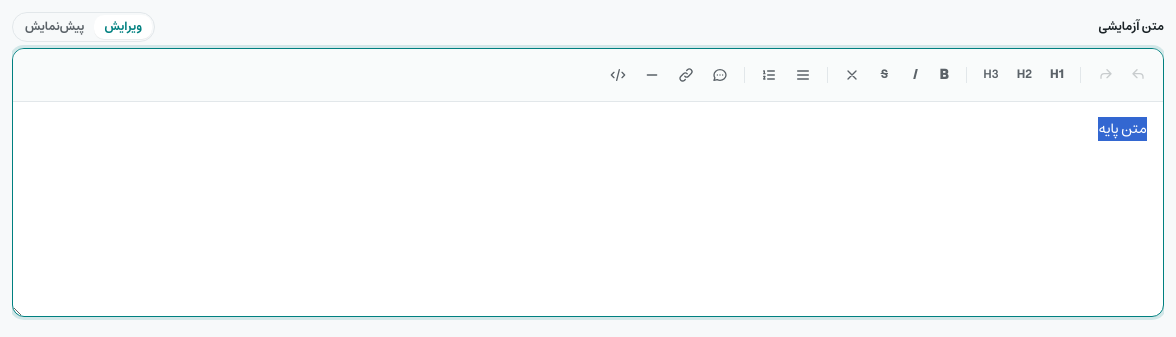
Test: RichTextEditor Component Suite › handles Undo and Redo operations
The width and height of the screenshot is (1176, 337).
Click the button named "متن پررنگ (Bold)". click: coordinates (944, 75)
box: [930,57,958,93]
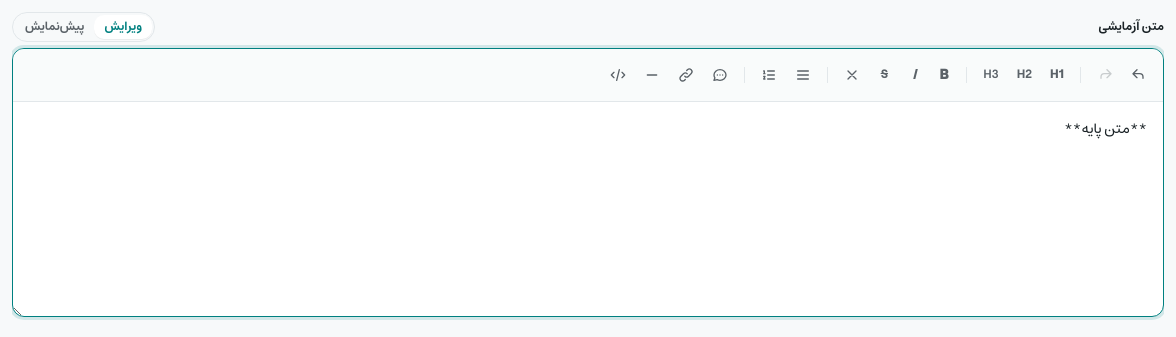
Result: the text box holds "**متن پایه**"
Click the button named "بازگشت به عقب (Undo)". click: coordinates (1139, 75)
box: [1123,59,1155,91]
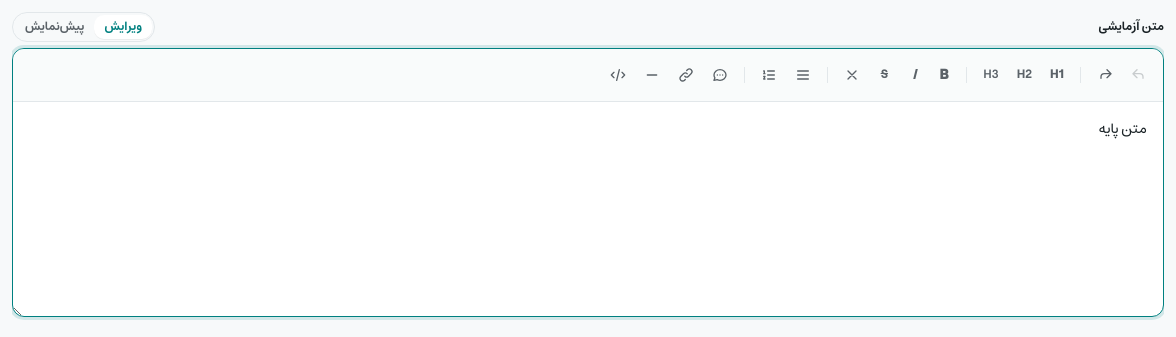
Result: the text box holds "متن پایه"
Click the button named "تکرار عملیات (Redo)". click: coordinates (1105, 75)
box: [1089,59,1121,91]
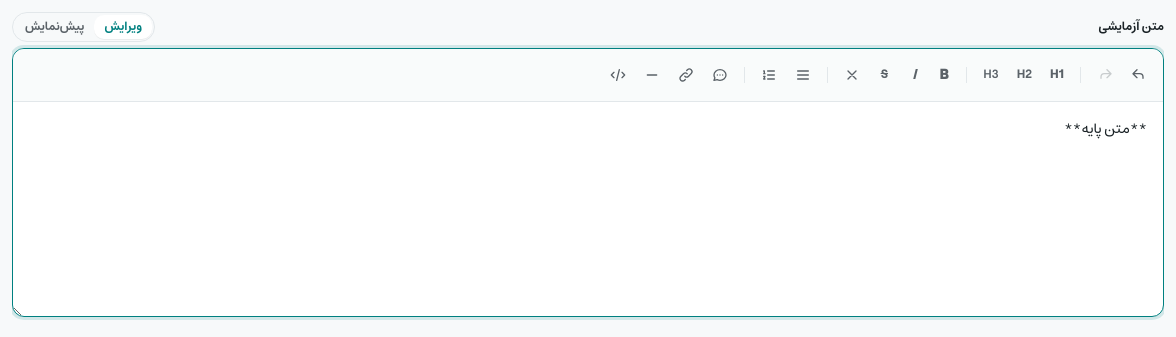
Result: the text box holds "**متن پایه**"
